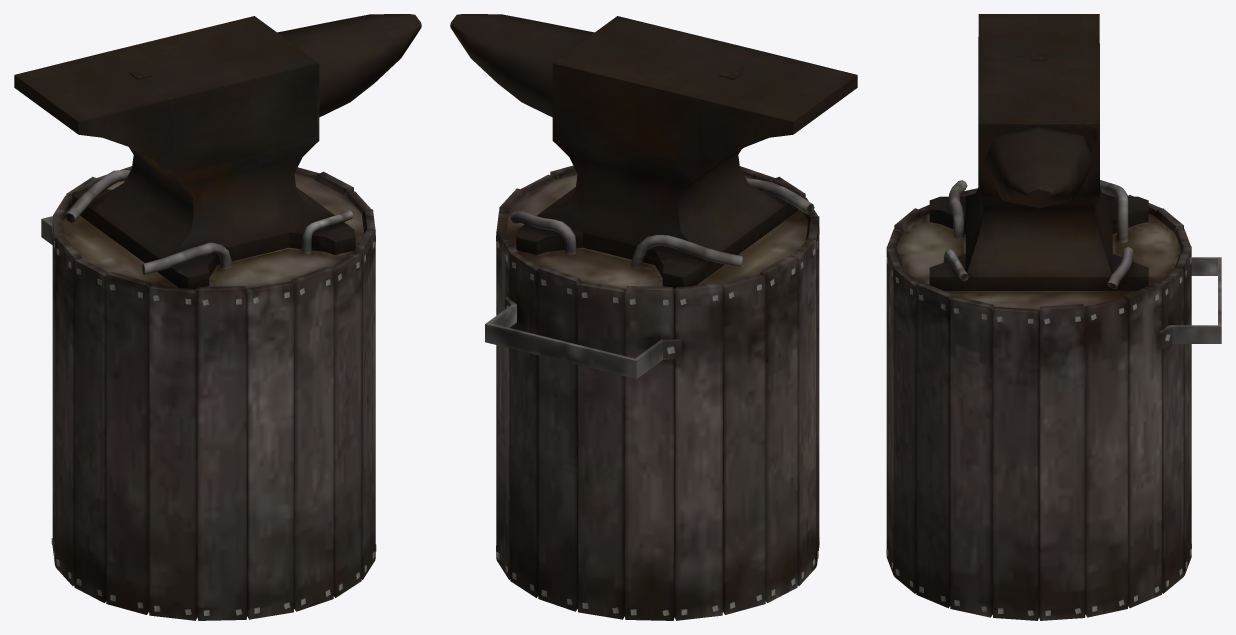
The model's file is obj_asset02_medieval_anvil.glb.
The picture shows the model from 3 angles, left to right: view 1: azimuth 30°, elevation 25°; view 2: azimuth 150°, elevation 25°; view 3: azimuth 270°, elevation 25°; orthographic projection. The views are drawn at different scales.
Parts seen in each view (by area): view 1: attache1_low_blinn1_0; view 2: attache1_low_blinn1_0; view 3: attache1_low_blinn1_0.
Boxes of the visible parts, x1,y1,x2,y2 form: attache1_low_blinn1_0: [14, 14, 421, 620]; attache1_low_blinn1_0: [450, 14, 857, 620]; attache1_low_blinn1_0: [886, 14, 1221, 620].
Size of the model in its own units: 0.6219 by 0.8 by 0.521.
1 material, 1 textured.
